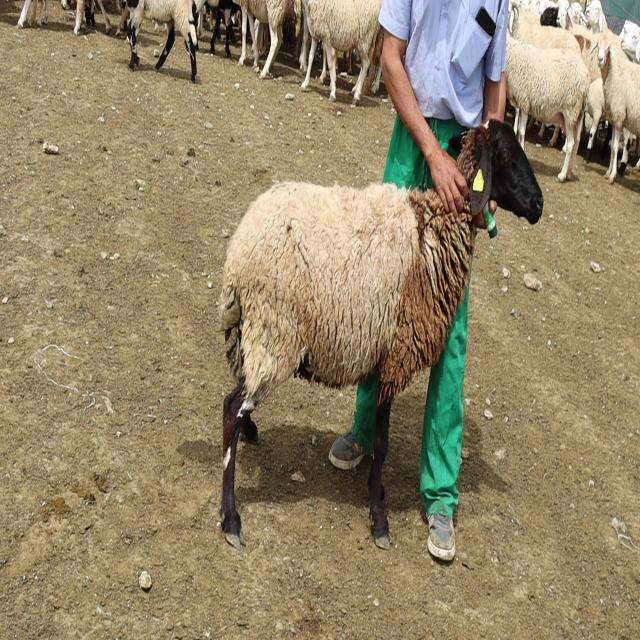Score_2: (220, 119, 543, 548)
